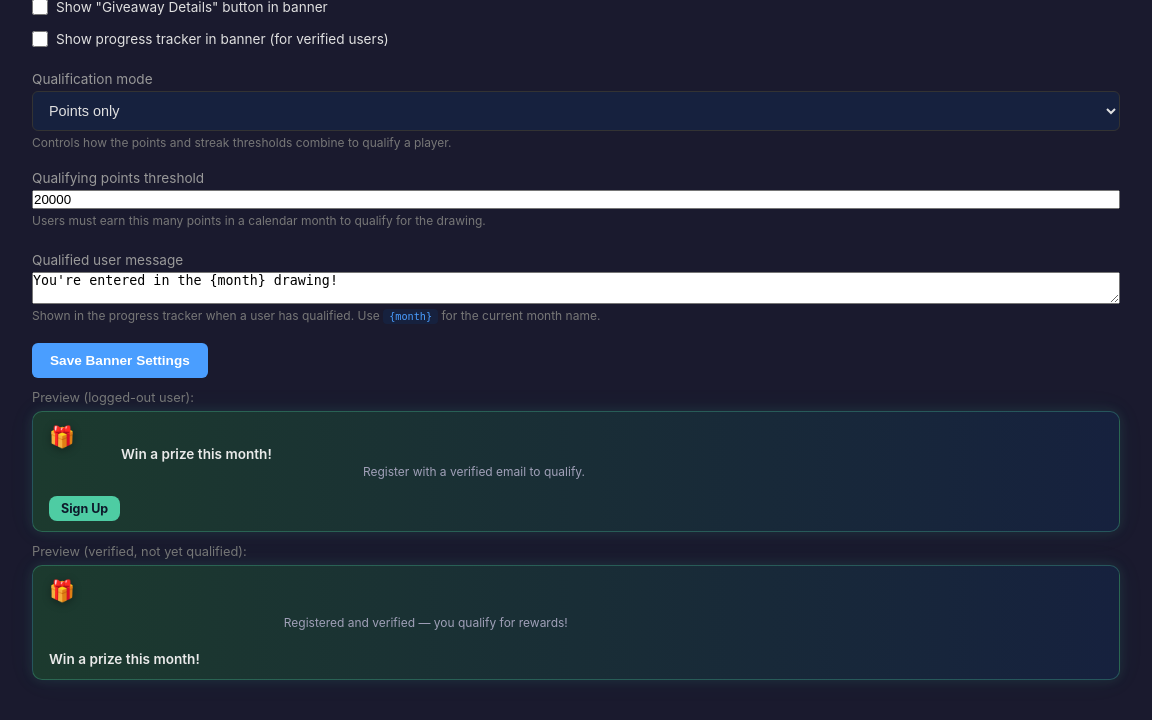
Test: AdminBannerPage › disables save button while saving
The image size is (1152, 720).
(page scrolled)
Step 1. Click the button with test id "banner-save" → (120, 360), box [32,343,208,378]
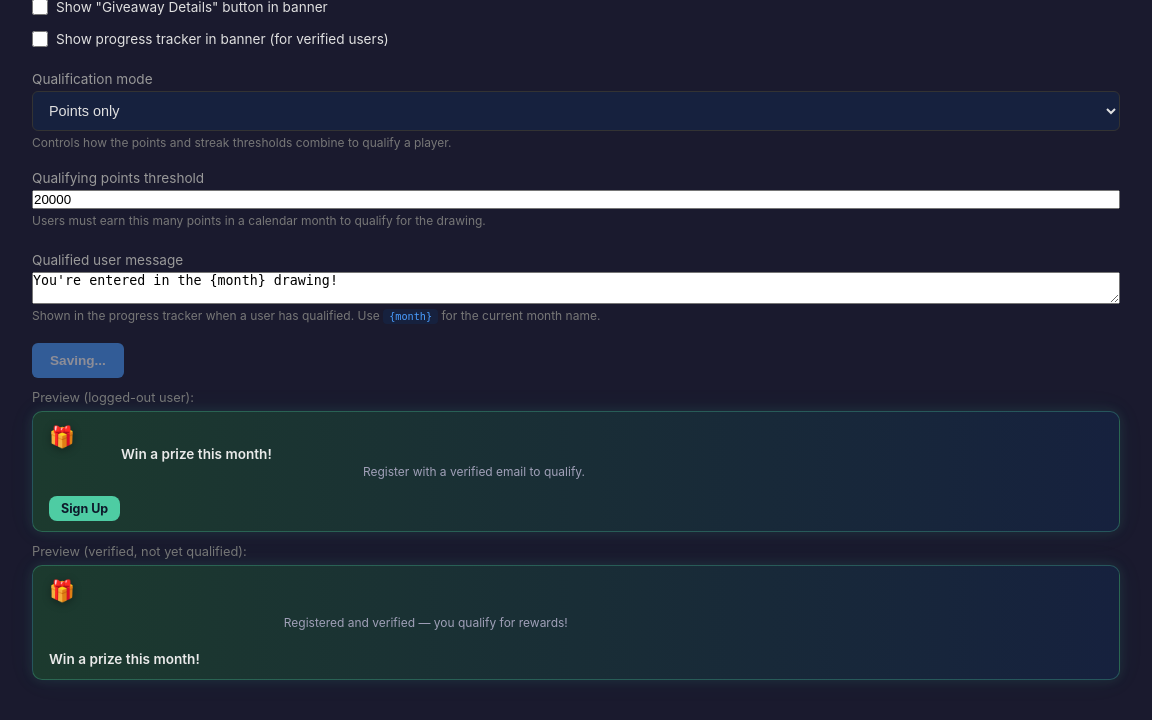
Expected: the button with test id "banner-save" is disabled, [32,343,124,378]
Expected: the button with test id "banner-save" reads "Saving...", [32,343,124,378]
